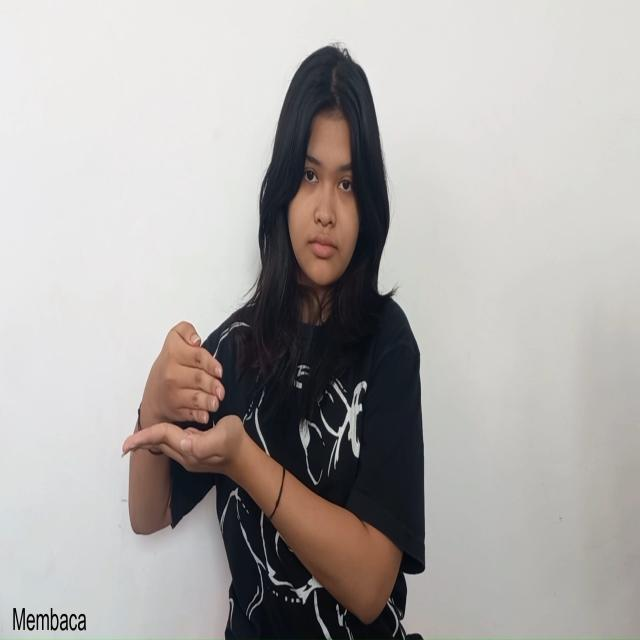Membaca -BISINDO-: (119, 320, 252, 494)
